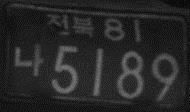1: (90, 46, 105, 98), (132, 18, 142, 44)
5: (51, 44, 79, 95)
8: (115, 49, 145, 99), (104, 17, 125, 43)
9: (150, 52, 179, 101)
나: (13, 42, 45, 76)
전북_O: (45, 12, 95, 40)
